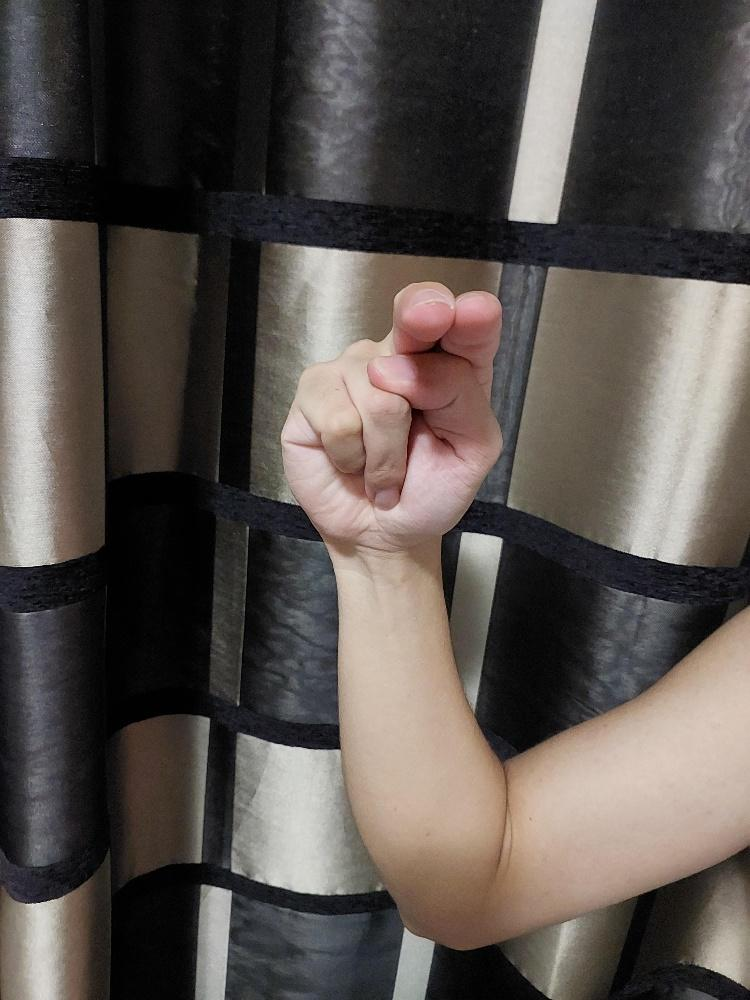n: (278, 278, 506, 557)
